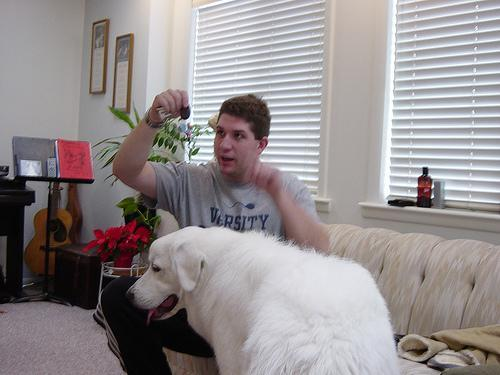Great_Pyrenees: (124, 225, 403, 374)
